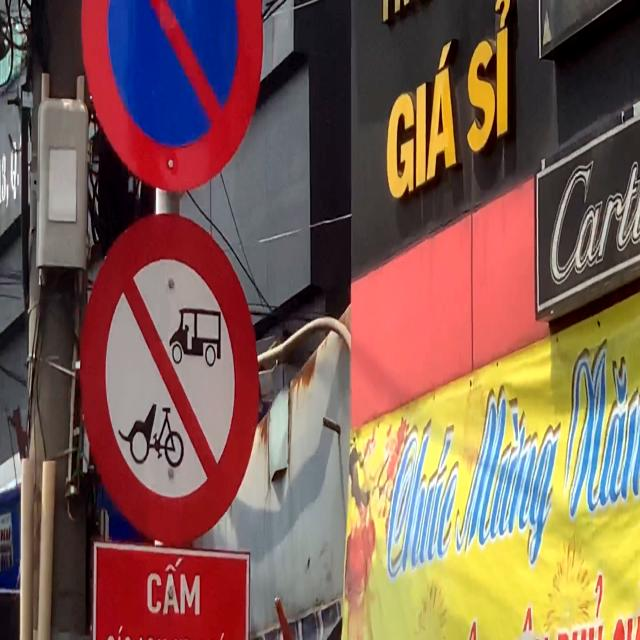P.131a: (79, 0, 263, 198)
